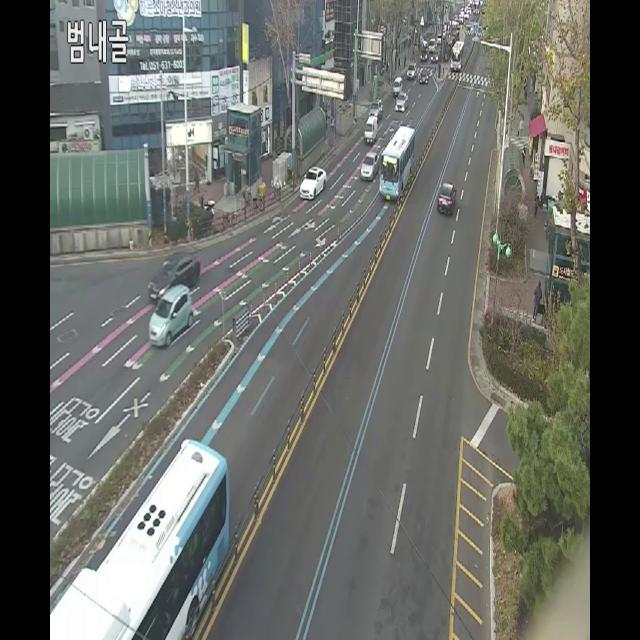car: (34, 418, 260, 640), (378, 126, 417, 203), (452, 38, 464, 72)
motorcycle: (149, 284, 196, 347), (150, 246, 201, 302), (299, 160, 328, 202), (437, 178, 456, 220), (363, 110, 379, 149), (361, 148, 378, 182), (394, 91, 408, 114), (370, 97, 382, 122), (406, 61, 418, 81), (393, 74, 402, 98), (418, 67, 430, 84)
